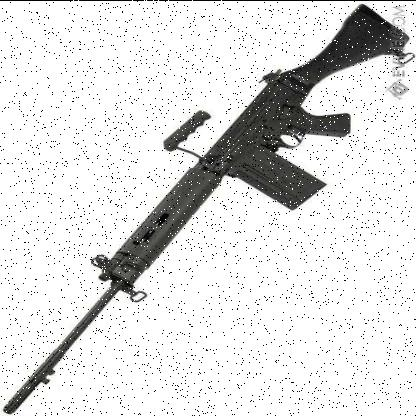rifle: (0, 2, 409, 414)
